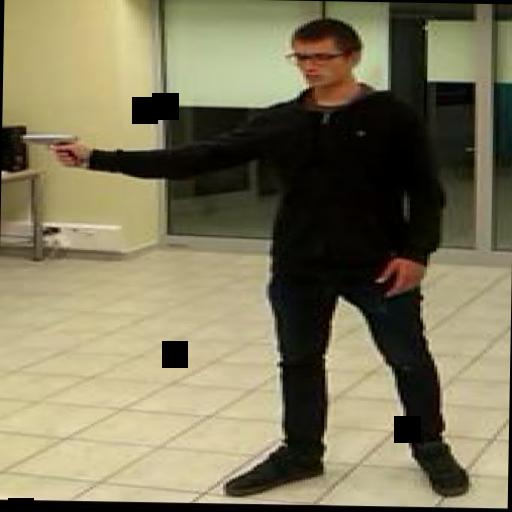Handgun: (17, 130, 84, 166)
